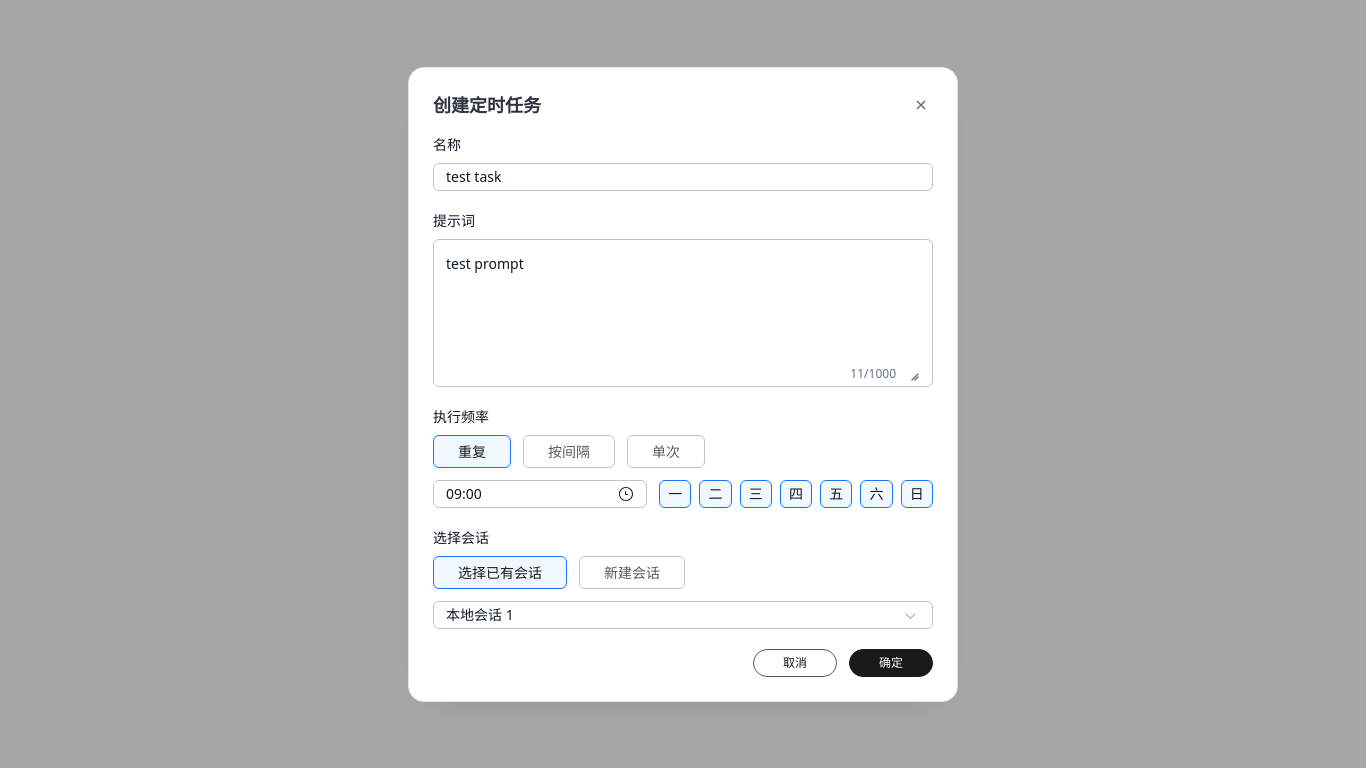
Scenario: ScheduleTaskEditorModal › opens the daily time picker upward and constrains the option scroll area when viewport space is limited
Click the button with test id "schedule-editor-daily-time-trigger" at (540, 494), box [433,480,647,508]
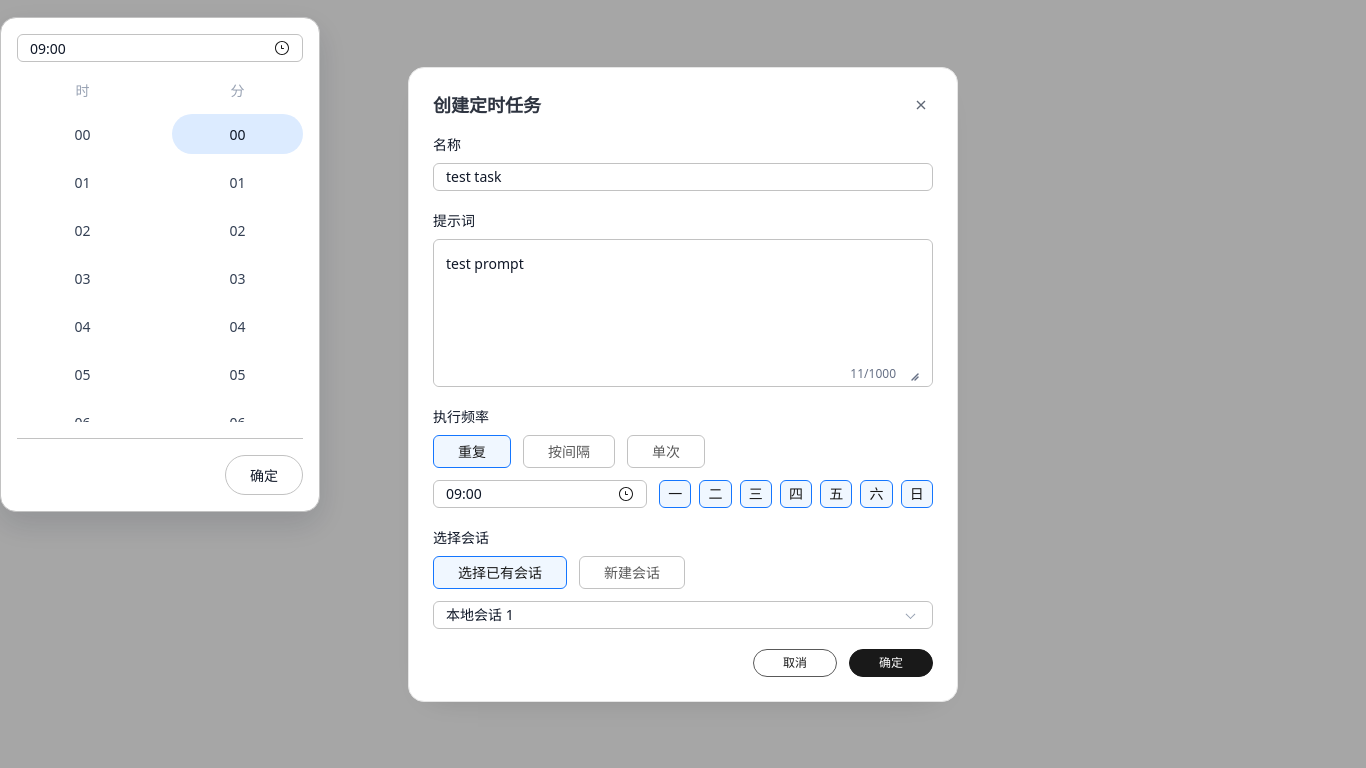
Expected: the element with test id "schedule-editor-daily-time-panel" is shown, [0,17,320,512]
